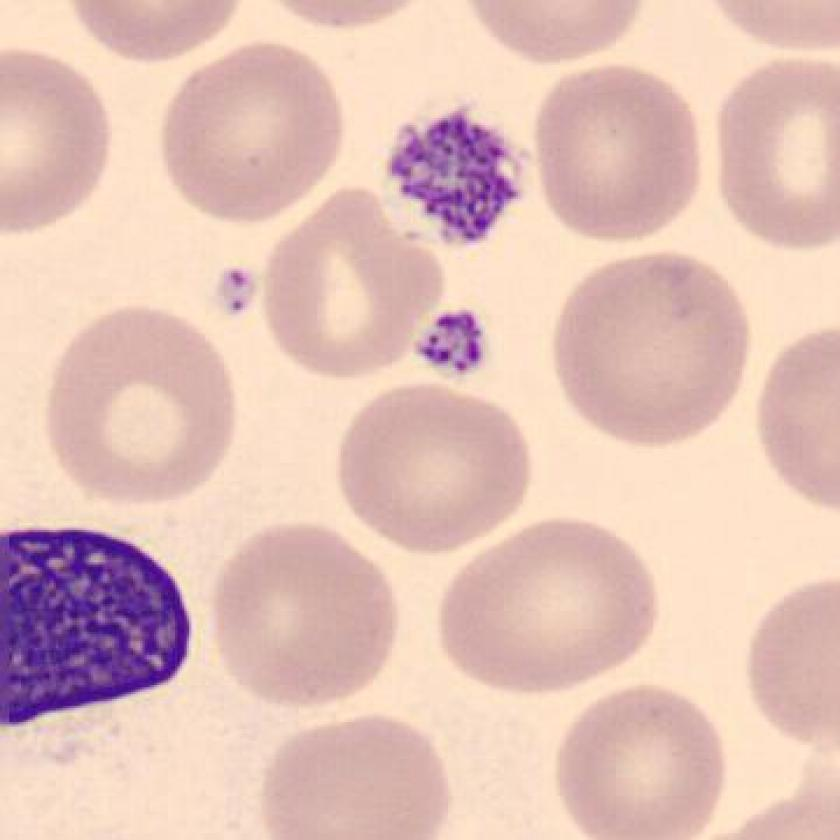platelets: (386, 105, 535, 256), (407, 300, 500, 392), (199, 253, 260, 334)
